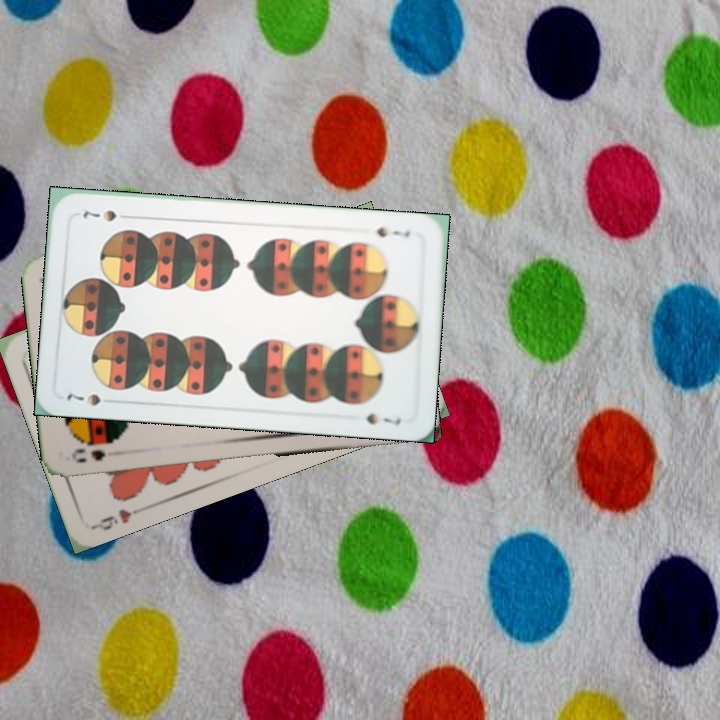H9: (91, 503, 148, 534)
S7: (62, 389, 103, 408), (373, 223, 413, 240)
SO: (67, 444, 108, 465)
